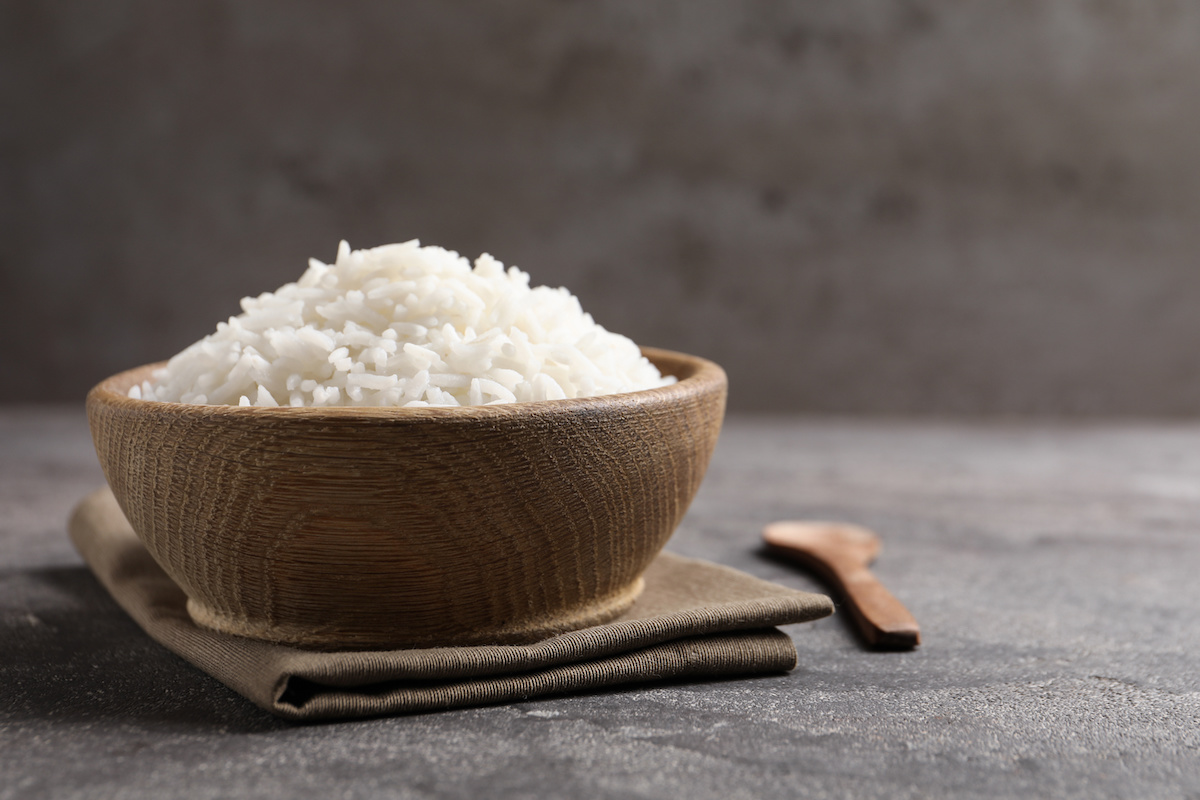rice: (209, 228, 642, 400)
